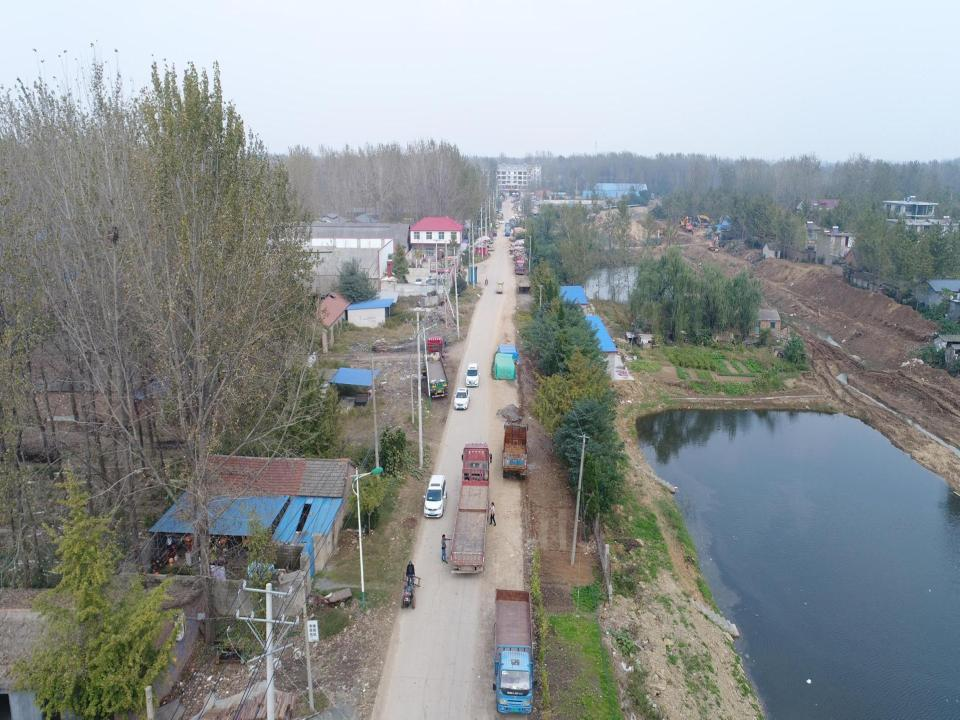car: (421, 472, 449, 522), (452, 384, 471, 415), (464, 363, 480, 386), (413, 276, 423, 286), (425, 275, 434, 283), (493, 228, 497, 236), (489, 238, 494, 244), (499, 219, 504, 224), (516, 214, 520, 220), (500, 208, 502, 213)
truck: (491, 583, 543, 715), (450, 442, 488, 574), (499, 414, 532, 474), (421, 333, 450, 401), (640, 235, 664, 250), (514, 252, 526, 274), (495, 279, 506, 297), (504, 221, 512, 231), (509, 217, 516, 228), (690, 220, 699, 227), (505, 226, 511, 236)
van: (494, 222, 498, 228)
